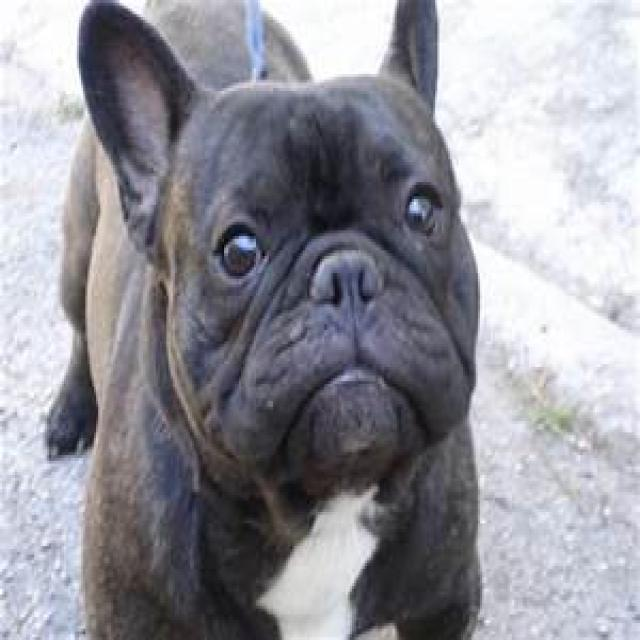animal: (45, 0, 482, 637)
